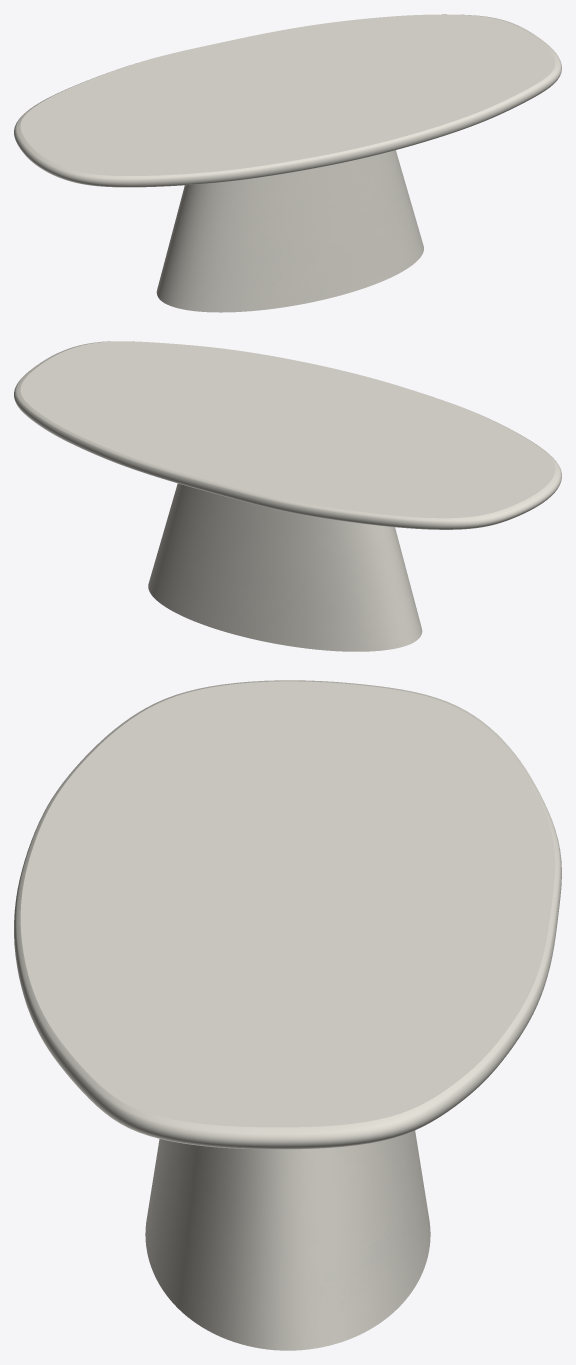
File: pale_danish_round_eqone.glb
3 views of the same model, one above another, from view 1: azimuth 30°, elevation 25°; view 2: azimuth 150°, elevation 25°; view 3: azimuth 270°, elevation 25° (orthographic). The views are drawn at different scales.
Visible parts, largest first — view 1: round_danish, eqone; view 2: round_danish, eqone; view 3: round_danish, eqone.
Boxes of the visible parts, <box> form: round_danish: <box>14,14,561,187</box>; eqone: <box>156,150,423,312</box>; round_danish: <box>14,341,561,529</box>; eqone: <box>148,483,422,651</box>; round_danish: <box>14,680,561,1149</box>; eqone: <box>145,1130,430,1350</box>.
Bounding box in the file's own units: 7.5 × 2.5 × 3.8.
1 material, 1 textured.
